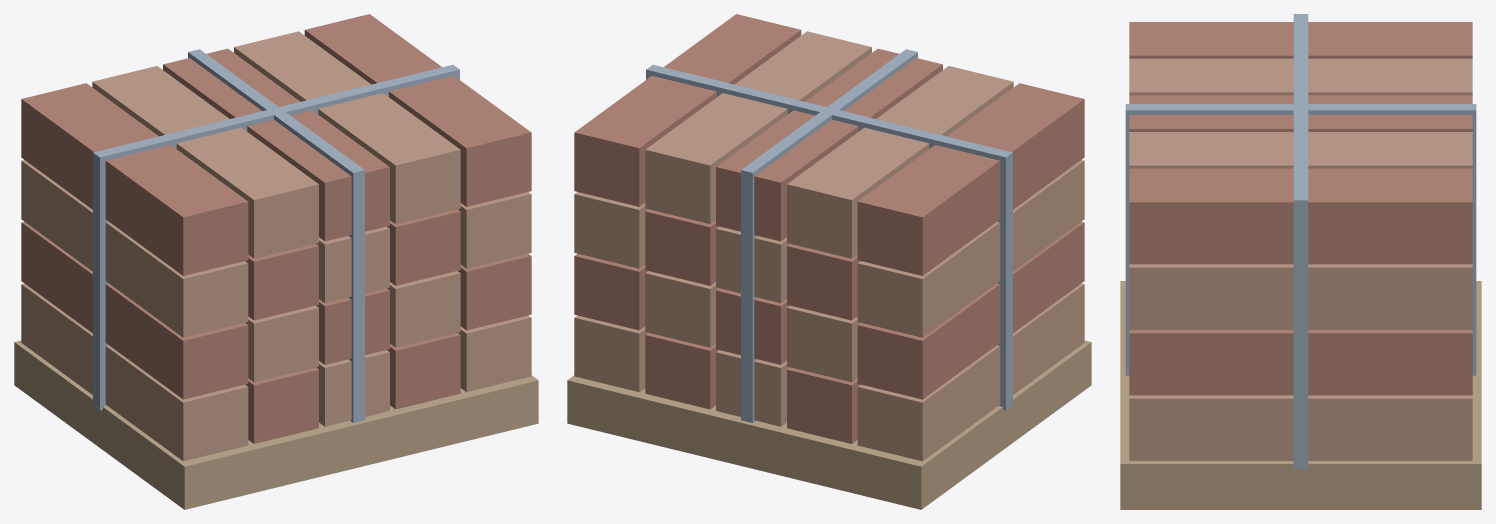
Rendered from Tugla_Paleti.glb.
3 renders of one model, left to right at view 1: azimuth 30°, elevation 25°; view 2: azimuth 150°, elevation 25°; view 3: azimuth 270°, elevation 25°, orthographic. The views are drawn at different scales.
Parts seen in each view (by area): view 1: Tugla_Paleti; view 2: Tugla_Paleti; view 3: Tugla_Paleti.
Boxes of the visible parts, box(x1,y1,x2,y2) form: Tugla_Paleti: box(14, 14, 538, 509); Tugla_Paleti: box(567, 14, 1091, 509); Tugla_Paleti: box(1120, 14, 1481, 509).
Bounding box in the file's own units: 1.22 × 0.95 × 1.
